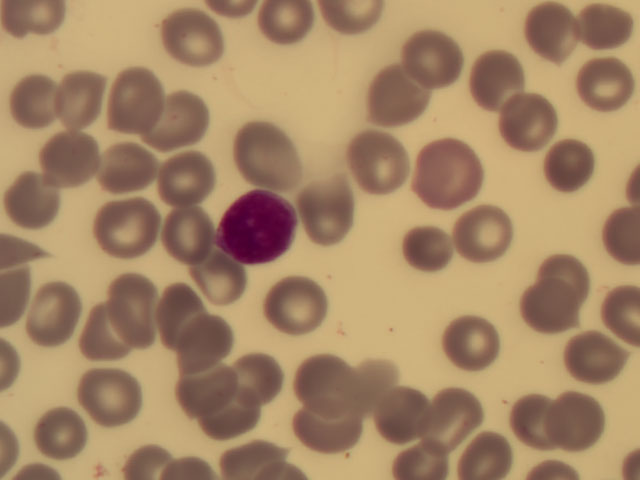RBC: (8, 70, 72, 136), (56, 66, 120, 132), (105, 67, 169, 133), (142, 84, 206, 150), (96, 139, 160, 205), (45, 127, 109, 193), (97, 192, 161, 258), (151, 141, 215, 207), (153, 211, 217, 277), (205, 252, 269, 318), (146, 283, 210, 349), (111, 272, 175, 338), (67, 302, 131, 368), (23, 285, 87, 351), (74, 351, 138, 417), (36, 391, 100, 457), (172, 318, 236, 384), (169, 348, 233, 414), (236, 341, 300, 407), (215, 380, 279, 446), (293, 340, 357, 406), (287, 390, 351, 456), (387, 378, 451, 444), (432, 382, 496, 448), (437, 306, 501, 372), (271, 273, 335, 339), (397, 221, 461, 287), (451, 193, 515, 259), (414, 139, 478, 205), (344, 124, 408, 190), (301, 175, 365, 241), (237, 123, 301, 189), (370, 60, 434, 126), (406, 26, 470, 92), (466, 44, 530, 110), (500, 87, 564, 153), (543, 133, 607, 199), (573, 54, 637, 120), (571, 3, 635, 69), (165, 7, 229, 73), (557, 388, 621, 454), (564, 319, 628, 385), (507, 282, 571, 348), (532, 237, 596, 303), (506, 389, 570, 455), (458, 414, 522, 480), (515, 1, 579, 66), (1, 173, 64, 239)
WBC: (214, 187, 301, 265)
